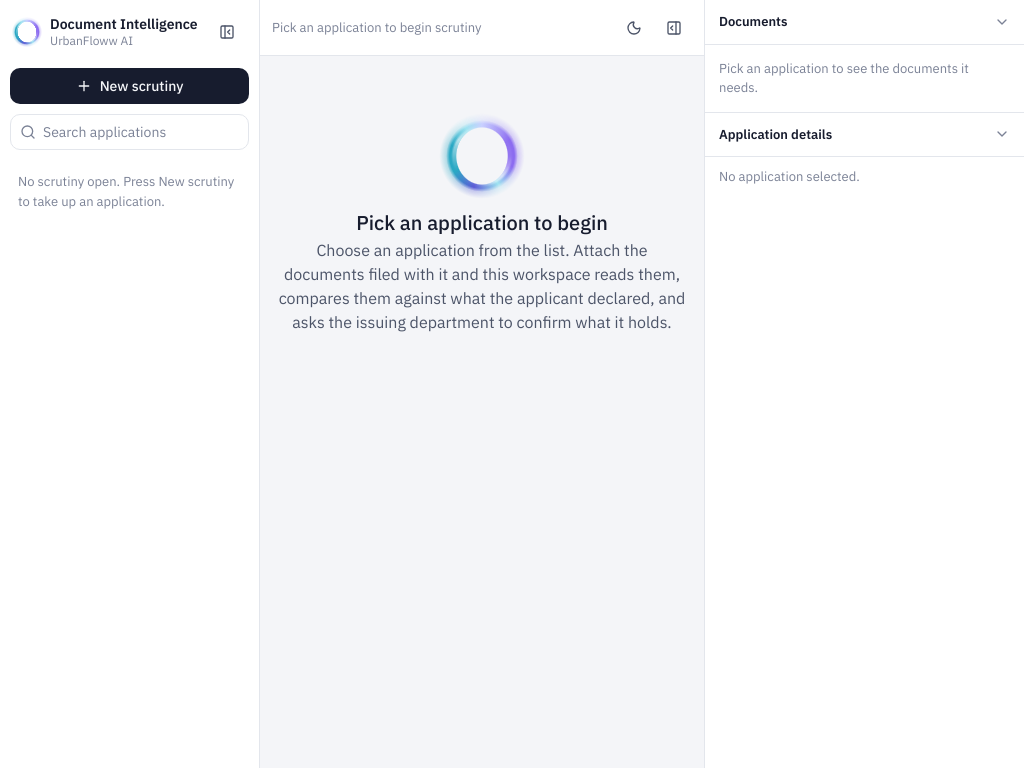
Test: the workspace shell › offers the queue of applications when New scrutiny is pressed
Step 1. Click the button "New scrutiny" → (130, 86), box top-left (10, 68), bottom-right (249, 104)
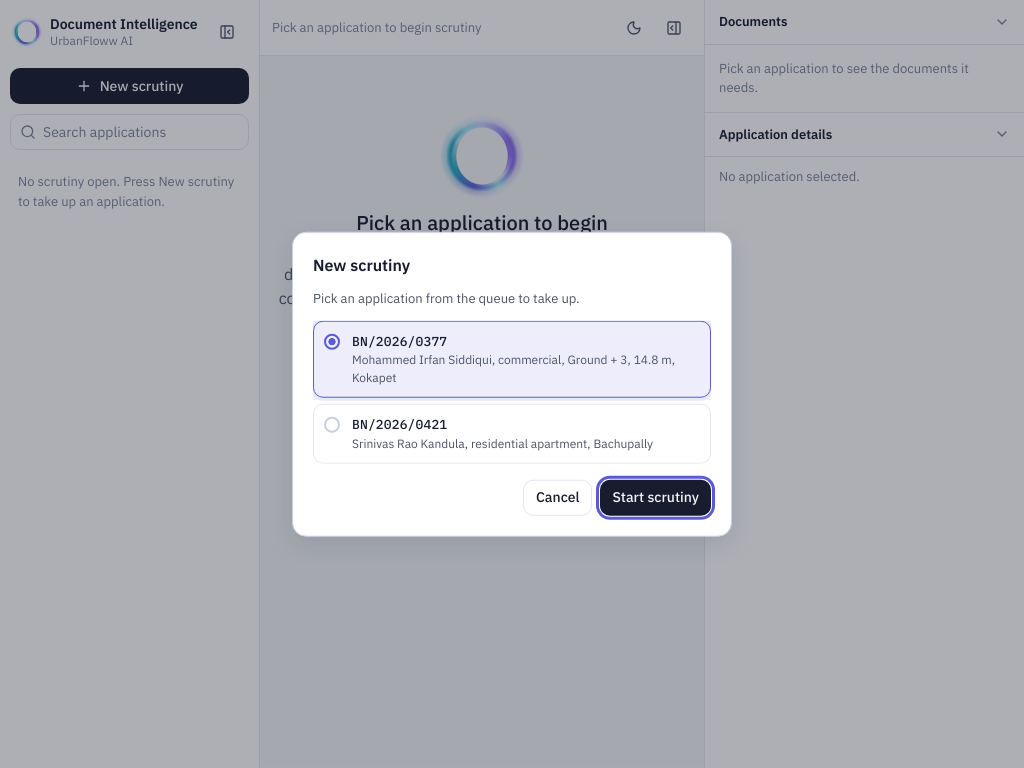
expect the text "BN/2026/0377" is shown: met, box top-left (352, 332), bottom-right (447, 349)
expect the text "BN/2026/0421" is shown: met, box top-left (352, 416), bottom-right (447, 433)
